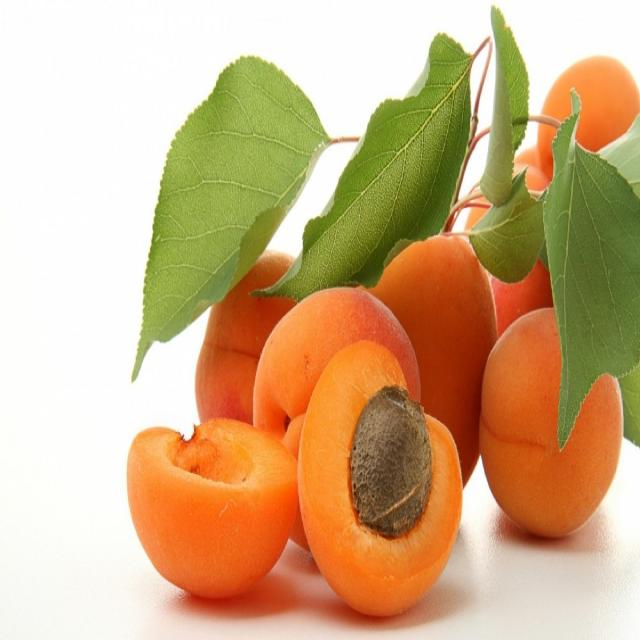Cekirdek: (349, 384, 432, 538)
Kayisi: (127, 418, 297, 598)
Yaprak: (132, 56, 330, 380), (259, 35, 470, 300), (543, 116, 639, 449)
